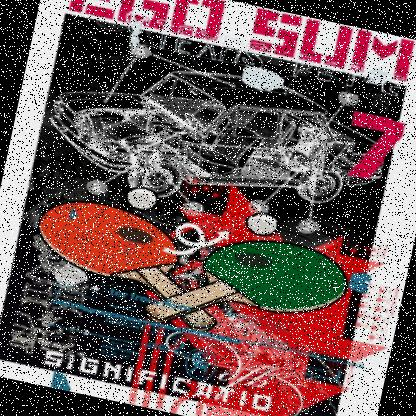Car: (40, 34, 396, 242), (24, 260, 91, 294), (34, 320, 78, 364), (5, 310, 46, 356), (51, 286, 87, 318), (19, 282, 54, 312)
